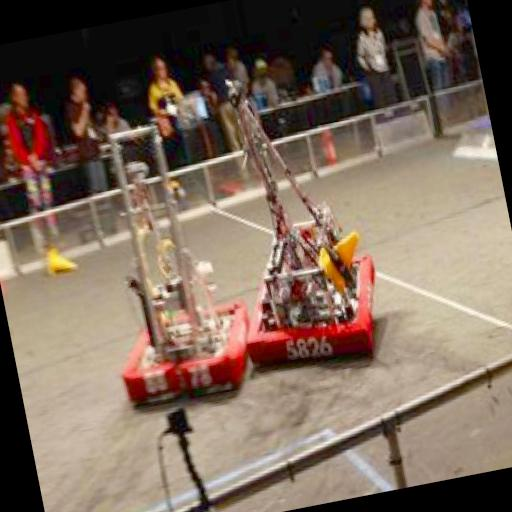robot: (197, 46, 385, 379), (69, 110, 253, 421)
